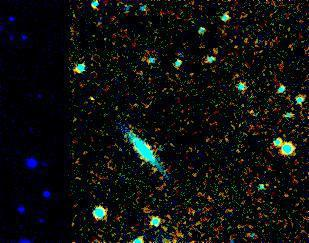star: (74, 84, 104, 114)
